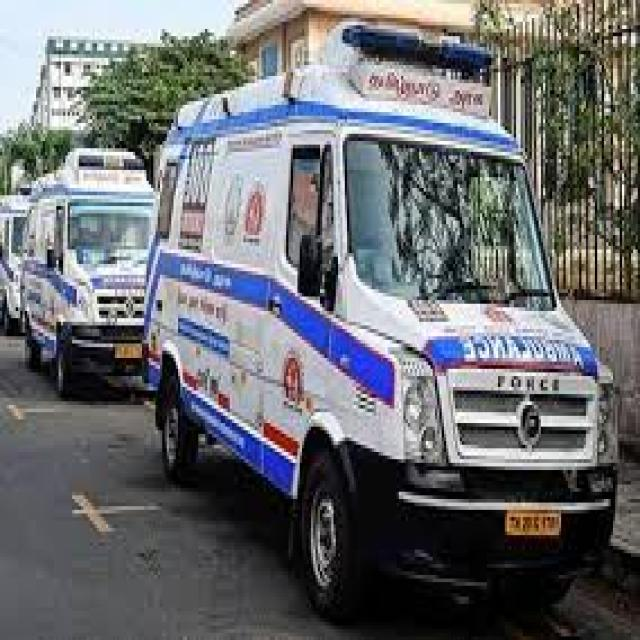Ambulance: (158, 76, 631, 640), (21, 145, 162, 383)
